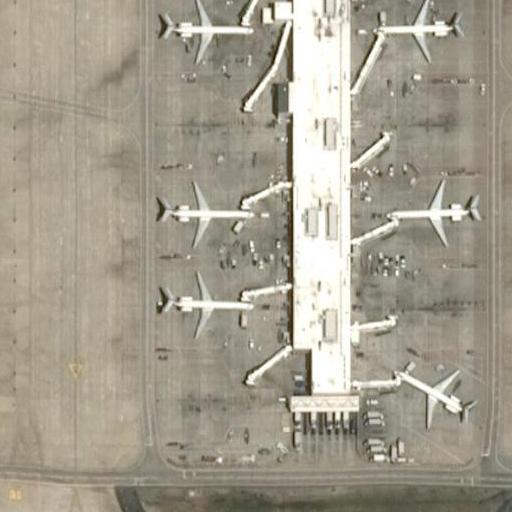Aircraft: (142, 264, 289, 342), (152, 176, 259, 245), (385, 179, 484, 248), (153, 0, 258, 65), (360, 0, 464, 59), (389, 360, 471, 423)
